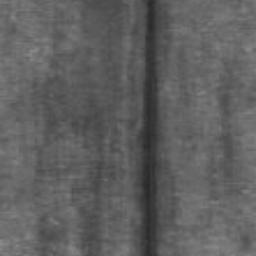Scratches: (140, 0, 158, 256)
